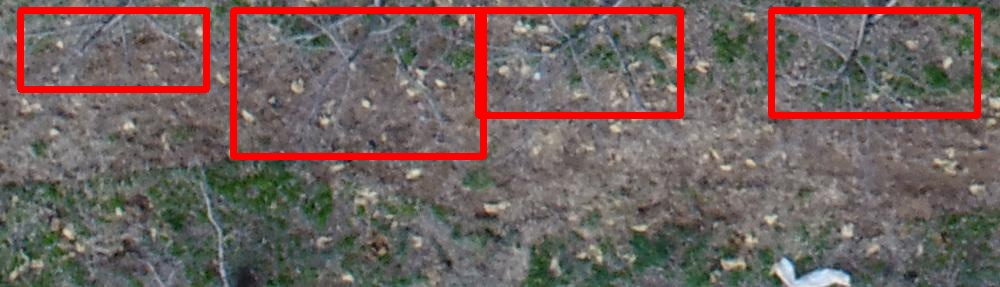apple: (233, 10, 483, 156), (771, 10, 977, 115), (478, 10, 680, 115), (20, 10, 206, 89)
